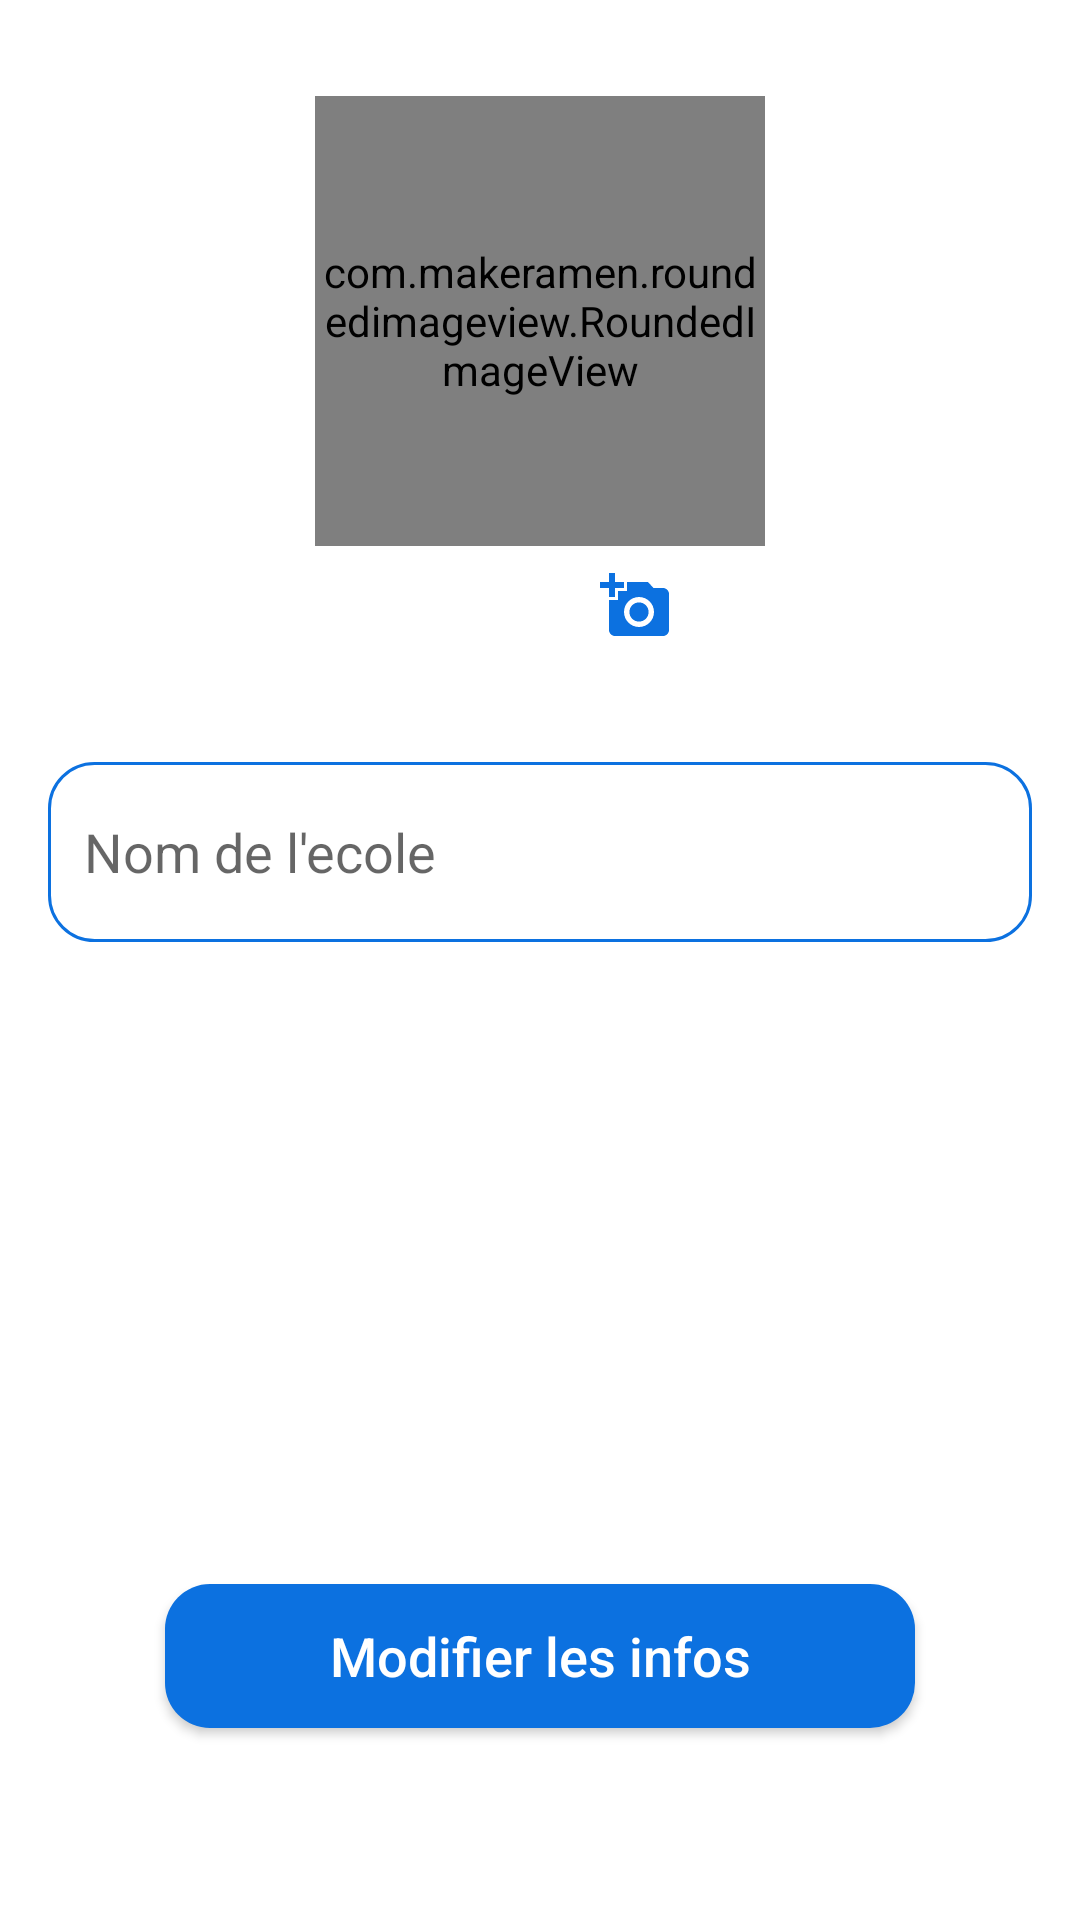

Screen size 1080x1920. Icon name, then its center in pixels as (x,y):
add photo: (634,604)
